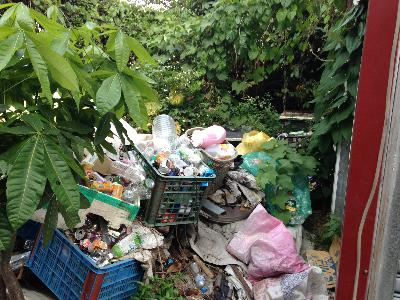bottle: (107, 231, 141, 261), (152, 113, 175, 156), (193, 124, 225, 150), (111, 164, 145, 183), (188, 262, 208, 292)
plastic_bag: (230, 202, 308, 278)
